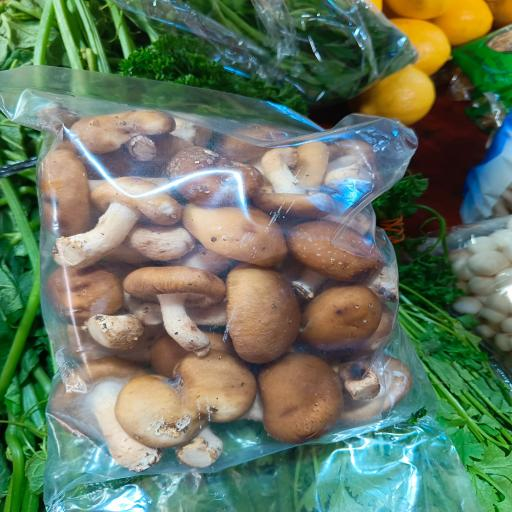Shiitake Mushroom: (49, 357, 160, 479), (55, 174, 179, 274), (181, 197, 324, 276), (117, 260, 227, 354), (250, 347, 356, 440), (107, 367, 203, 451), (222, 265, 298, 368), (299, 277, 394, 352), (176, 350, 266, 421), (74, 100, 177, 161), (288, 212, 393, 271)
